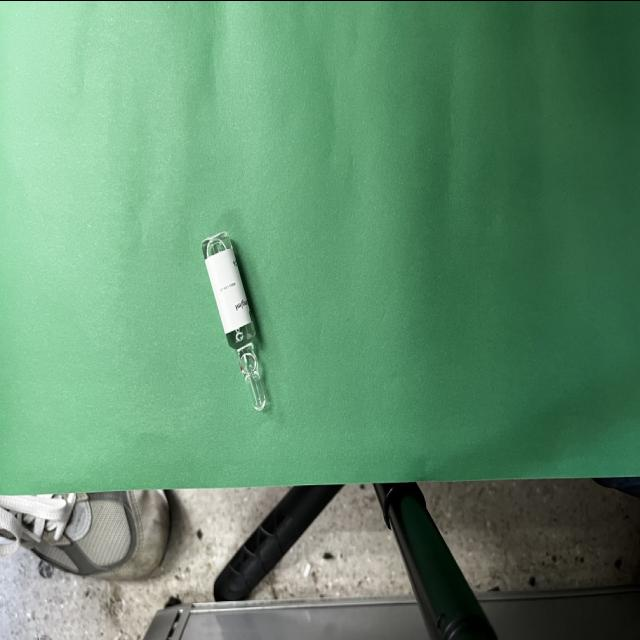Ampoules: (202, 231, 268, 411)
